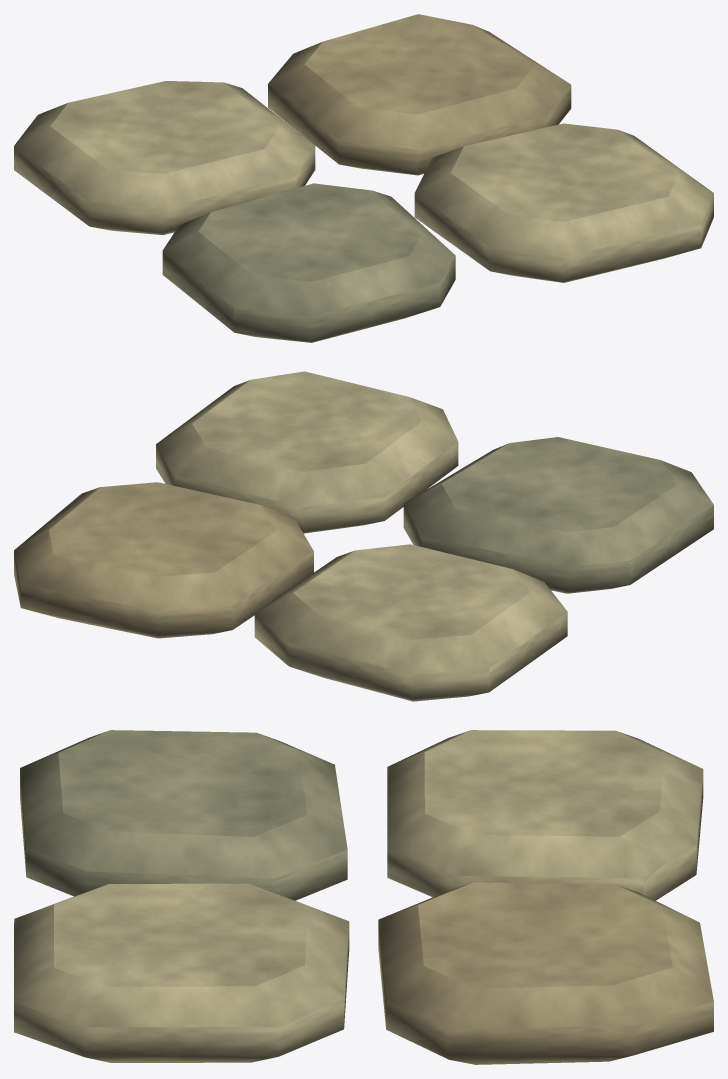
The model's file is stone-floor-1.fbx.
The picture shows the model from 3 angles, top to bottom: view 1: azimuth 30°, elevation 25°; view 2: azimuth 150°, elevation 25°; view 3: azimuth 270°, elevation 25°; orthographic projection. The views are drawn at different scales.
Visible parts, largest first — view 1: stone-floor-1__Geometry; view 2: stone-floor-1__Geometry; view 3: stone-floor-1__Geometry.
Part boxes in pixels (x1=…): stone-floor-1__Geometry: x1=14, y1=14, x2=713, y2=342; stone-floor-1__Geometry: x1=14, y1=371, x2=713, y2=701; stone-floor-1__Geometry: x1=14, y1=730, x2=713, y2=1064.
Bounding box in the file's own units: 0.9514 × 0.12 × 0.9643.
1 material, 1 textured.
